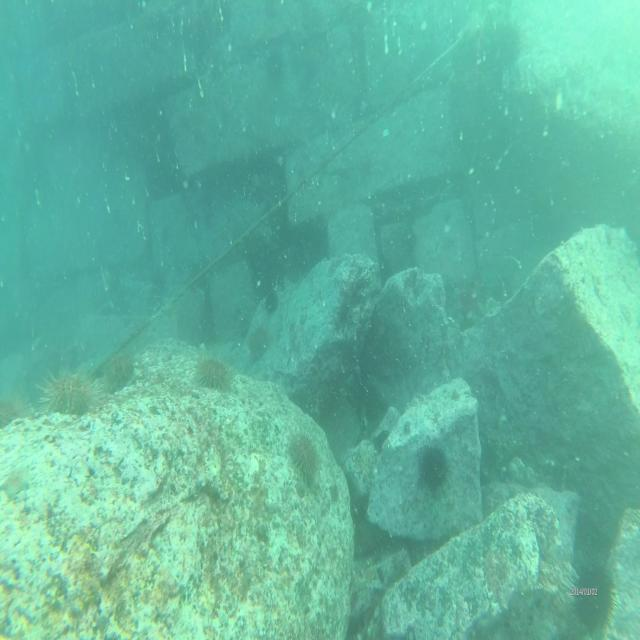echinus: (39, 372, 104, 418), (571, 564, 616, 628), (288, 432, 322, 484), (418, 444, 454, 488), (196, 350, 234, 387), (488, 24, 520, 64), (248, 327, 270, 360), (264, 288, 282, 313)
